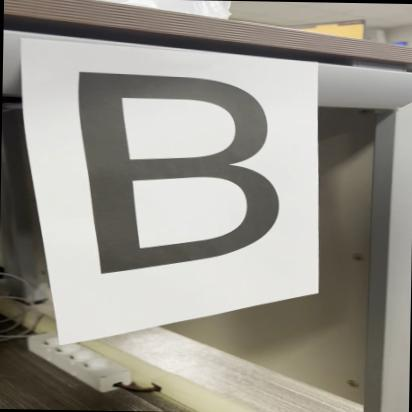seat: (56, 58, 300, 279)
